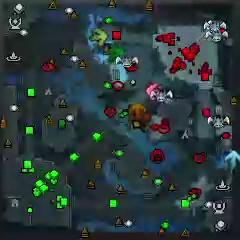x1: (146, 82, 163, 97)
x2: (90, 28, 107, 46)
x3: (224, 151, 240, 169)
x4: (106, 45, 124, 62)
x5: (130, 102, 145, 118)
